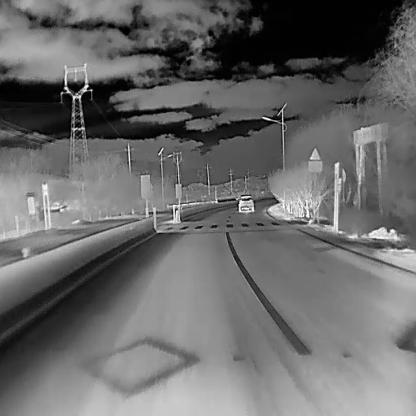car: (237, 194, 254, 212)
